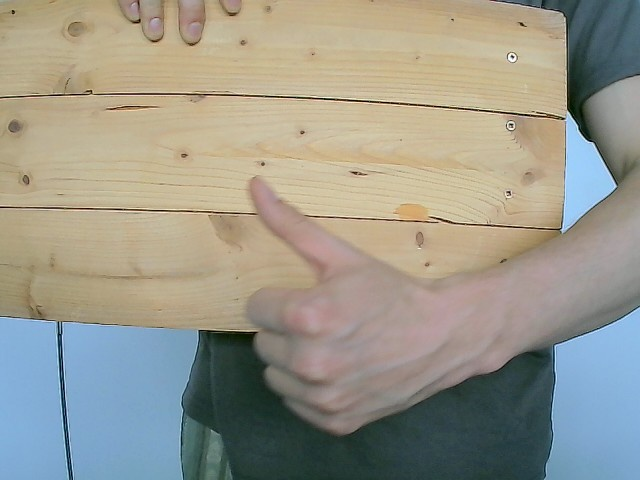up: (242, 173, 468, 437)
